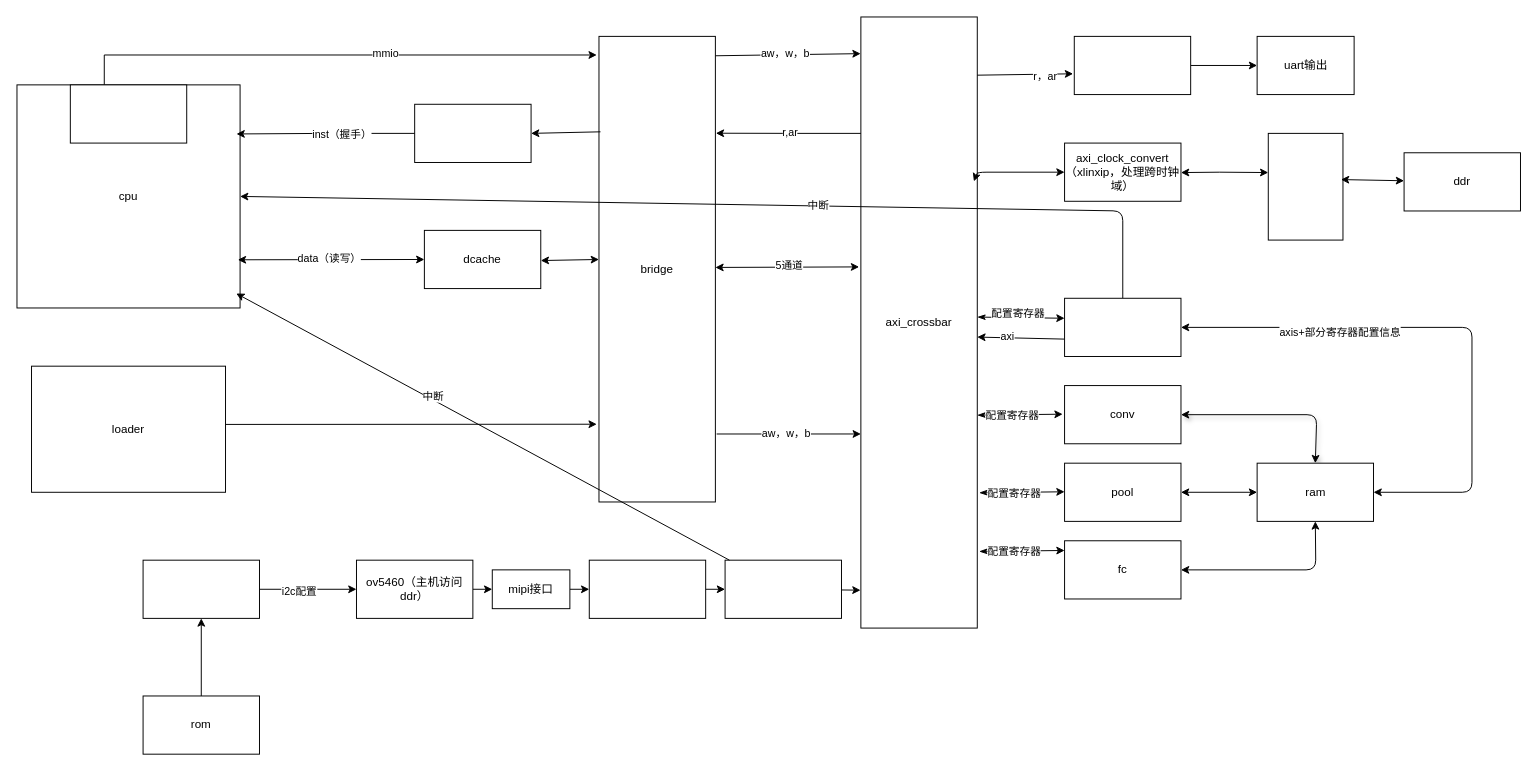
Image size: 1537x771. Some labels were removed from this diagram. The shapes that lost their labels are listed below. From the top down, each one's centre as x and y in pixels, then its label:
At (x=1132, y=65): "bridge（axi2native）".
At (x=128, y=113): "mem".
At (x=472, y=132): "icache".
At (x=1305, y=186): "mig".
At (x=1122, y=326): "dma".
At (x=200, y=588): "ctrl".
At (x=647, y=588): "图像处理".
At (x=782, y=588): "axis->axiw".
